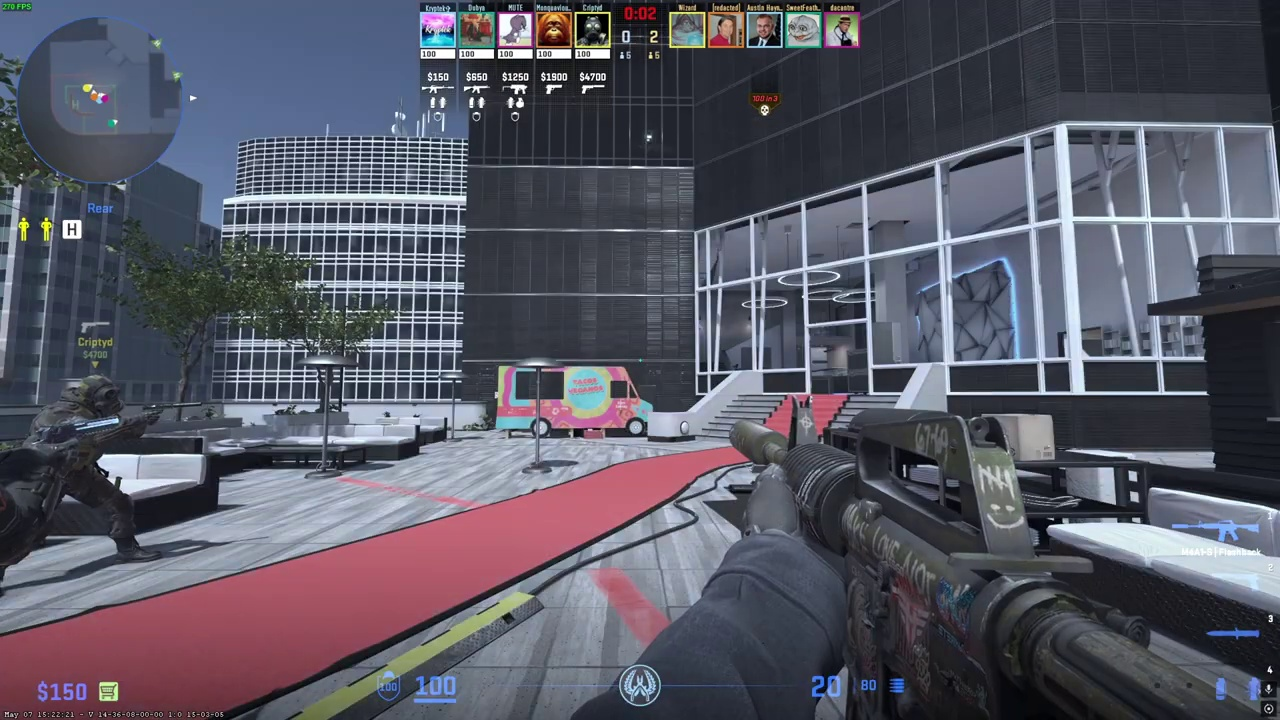CT: (1, 374, 155, 587)
